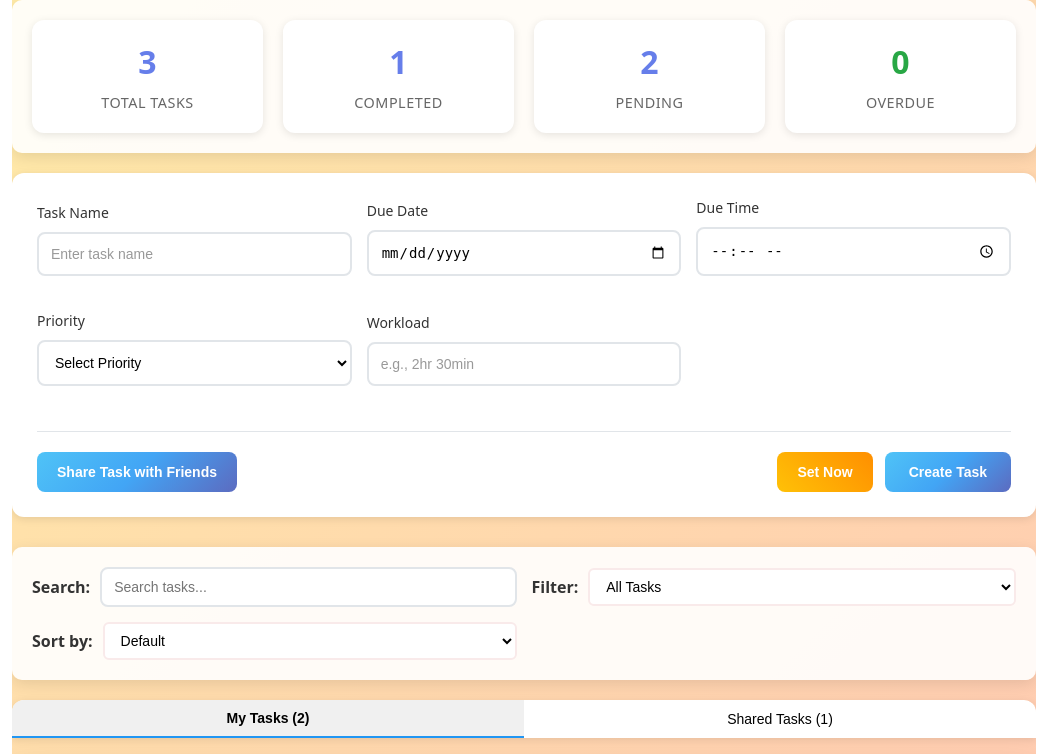
Task component › shows validation errors on empty submit
Click the button "Create Task" at (948, 472), box [885,452,1011,492]
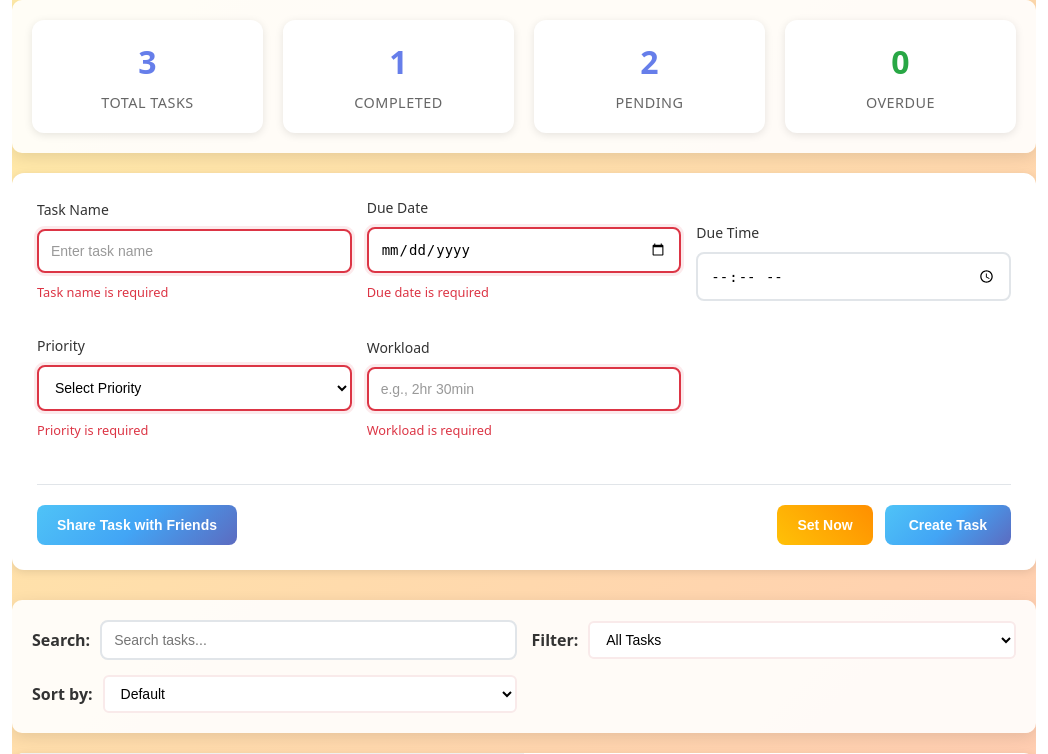
Expected: the text "Task name is required" is shown, [37,283,168,301]
Expected: the text "Due date is required" is shown, [367,283,489,301]
Expected: the text "Priority is required" is shown, [37,421,148,439]
